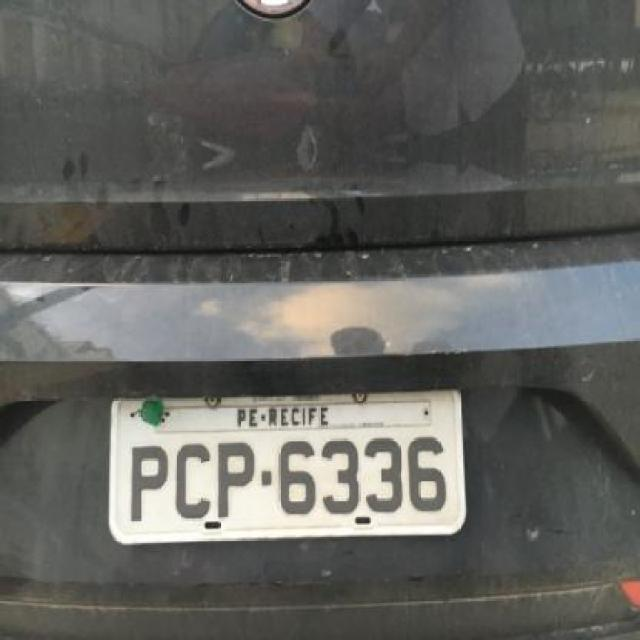old_plate: (101, 383, 472, 551)
